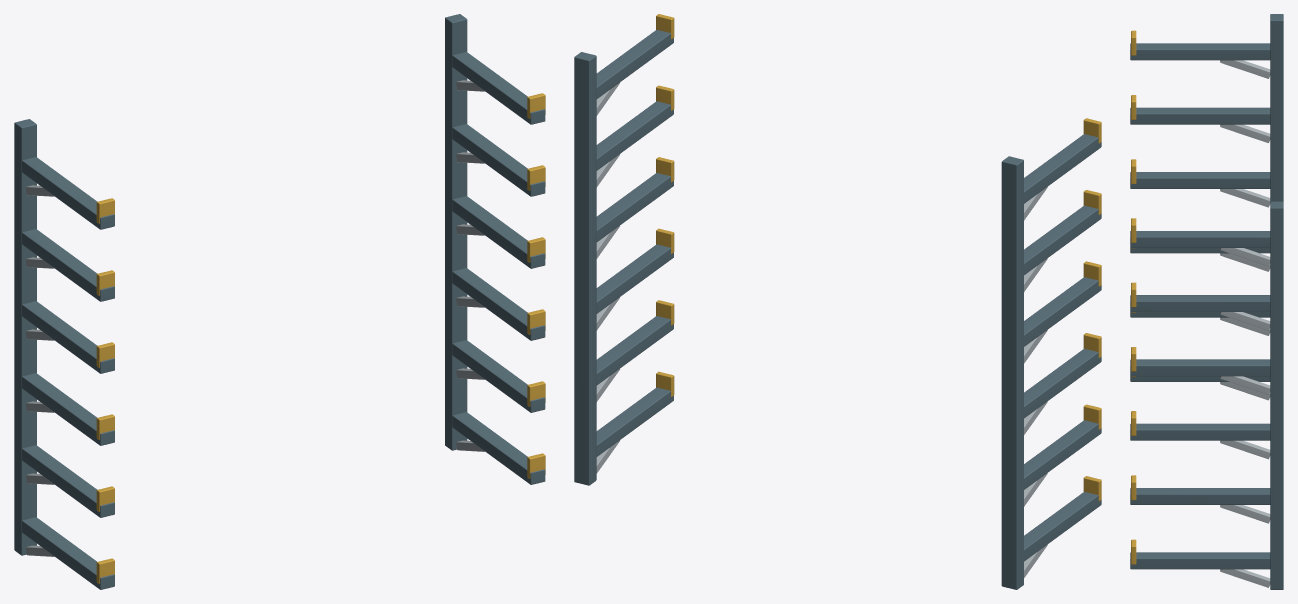
File: garage-lumber-rack.glb
The picture shows the model from 3 angles, left to right: view 1: azimuth 30°, elevation 25°; view 2: azimuth 150°, elevation 25°; view 3: azimuth 270°, elevation 25°; orthographic projection. The views are drawn at different scales.
Visible parts, largest first — view 1: catalog_surface_RealismUV; view 2: catalog_surface_RealismUV; view 3: catalog_surface_RealismUV.
Part boxes in pixels (box(x1,y1,x2,y2)): catalog_surface_RealismUV: box(14, 14, 545, 589); catalog_surface_RealismUV: box(574, 14, 1101, 589); catalog_surface_RealismUV: box(1130, 14, 1283, 589).
Bounding box in the file's own units: 1.2 × 1.1 × 0.4.
